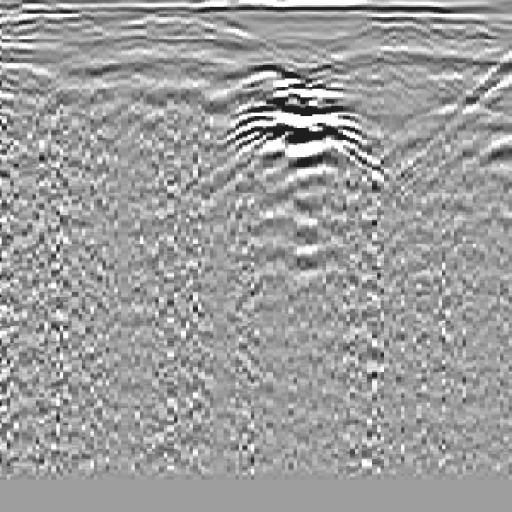metalic: (198, 39, 401, 210)
